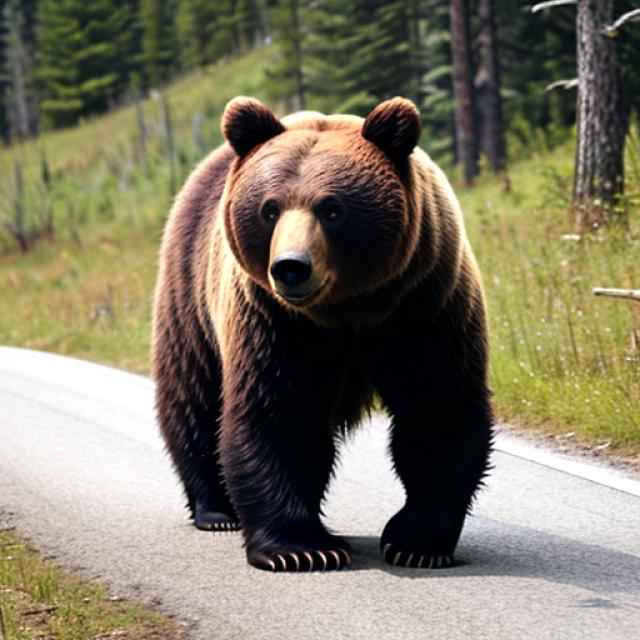bear: (150, 98, 522, 554)
